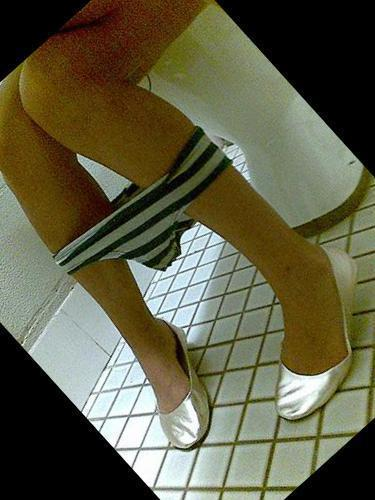Sanitario: (89, 0, 375, 303)
